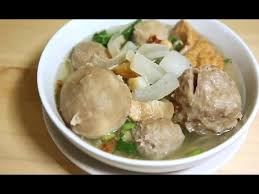bakso: (60, 30, 248, 157)
